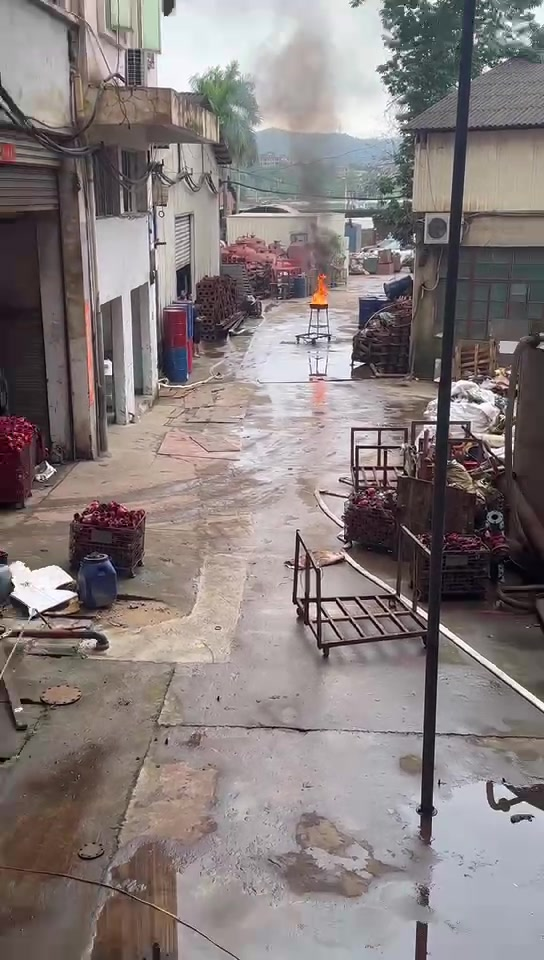fire: (311, 273, 328, 304)
